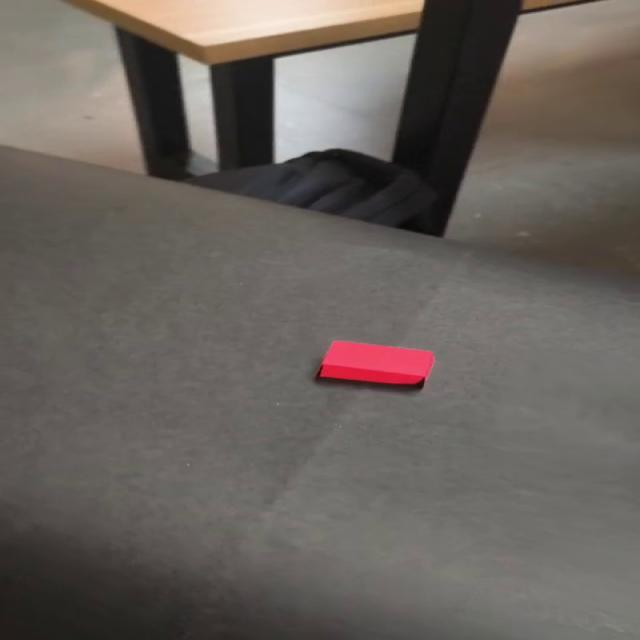red block: (314, 339, 434, 386)
